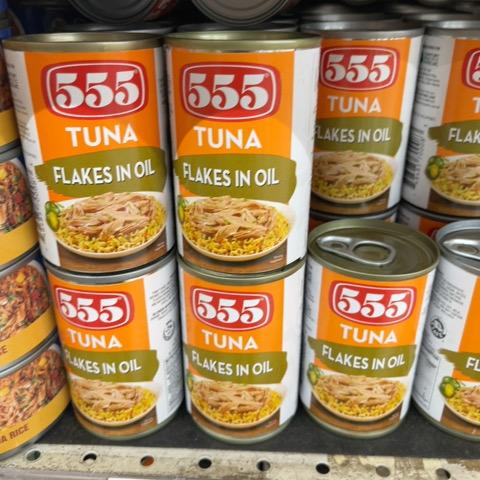canned-goods: (0, 31, 174, 276), (161, 31, 324, 273), (304, 217, 441, 440), (44, 252, 184, 445), (171, 251, 305, 442), (315, 25, 426, 221), (411, 217, 480, 444), (403, 23, 480, 217)
